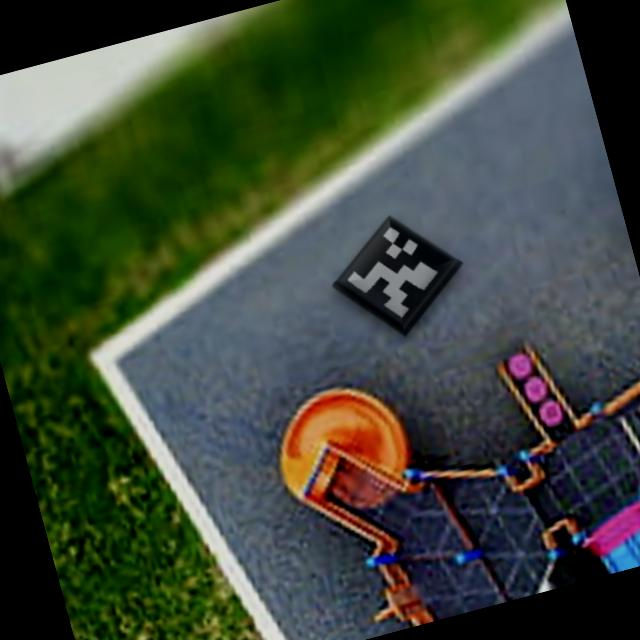marker: (312, 190, 484, 358)
